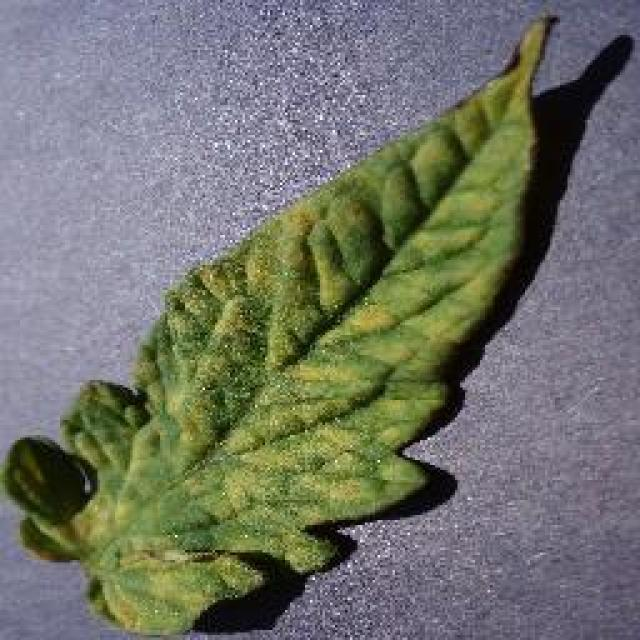Tomato___Leaf_Mold: (0, 18, 548, 630)
